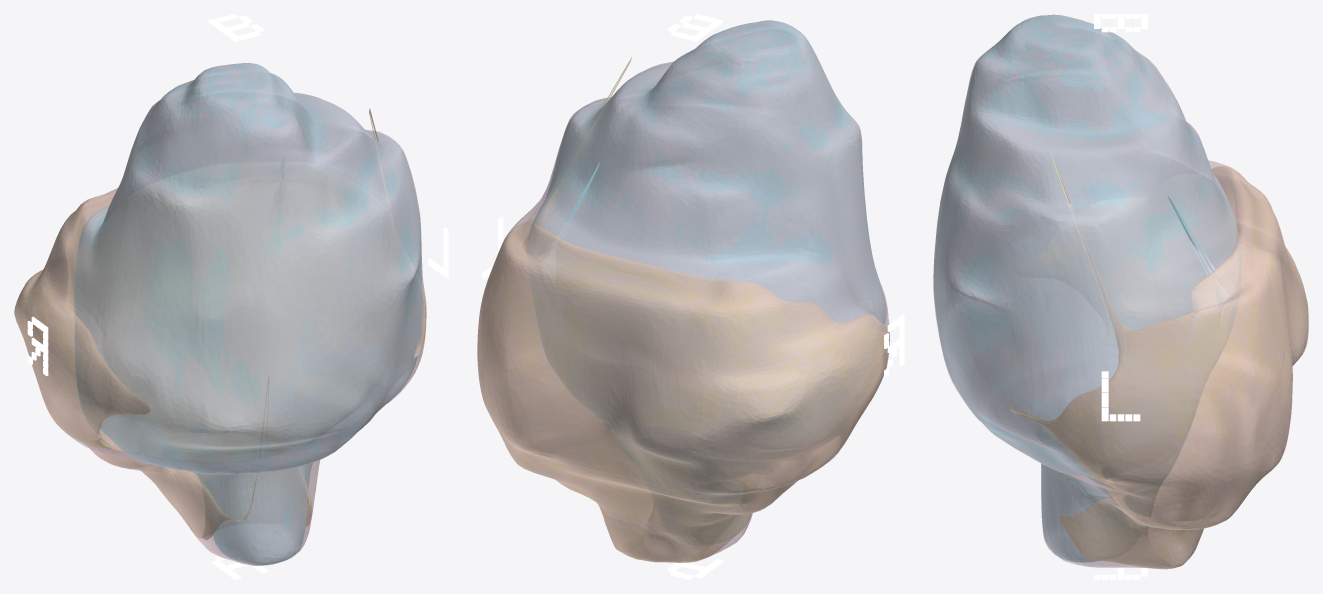
The picture shows the model from 3 angles, left to right: view 1: azimuth 30°, elevation 25°; view 2: azimuth 150°, elevation 25°; view 3: azimuth 270°, elevation 25°; orthographic projection.
Visible parts, largest first — view 1: prostate_gland, transition_zone, peripheral_zone, pv_ar_marker_B, pv_ar_marker_R; view 2: prostate_gland, peripheral_zone, transition_zone, pv_ar_marker_B, pv_ar_marker_R; view 3: prostate_gland, transition_zone, peripheral_zone, pv_ar_marker_B, pv_ar_marker_L, pv_ar_marker_A.
Boxes of the visible parts, x1=… form: prostate_gland: x1=14, y1=63, x2=426, y2=565; transition_zone: x1=74, y1=63, x2=422, y2=565; peripheral_zone: x1=14, y1=108, x2=425, y2=539; pv_ar_marker_B: x1=208, y1=14, x2=263, y2=41; pv_ar_marker_R: x1=27, y1=316, x2=48, y2=376; prostate_gland: x1=477, y1=20, x2=889, y2=562; peripheral_zone: x1=477, y1=57, x2=889, y2=562; transition_zone: x1=526, y1=20, x2=885, y2=462; pv_ar_marker_B: x1=667, y1=14, x2=723, y2=41; pv_ar_marker_R: x1=884, y1=314, x2=904, y2=377; prostate_gland: x1=933, y1=15, x2=1308, y2=569; transition_zone: x1=934, y1=14, x2=1241, y2=562; peripheral_zone: x1=1009, y1=153, x2=1308, y2=568; pv_ar_marker_B: x1=1094, y1=14, x2=1147, y2=32; pv_ar_marker_L: x1=1101, y1=371, x2=1140, y2=421; pv_ar_marker_A: x1=1094, y1=562, x2=1147, y2=579.
Bounding box in the file's own units: 0.0616 × 0.079 × 0.0489.
